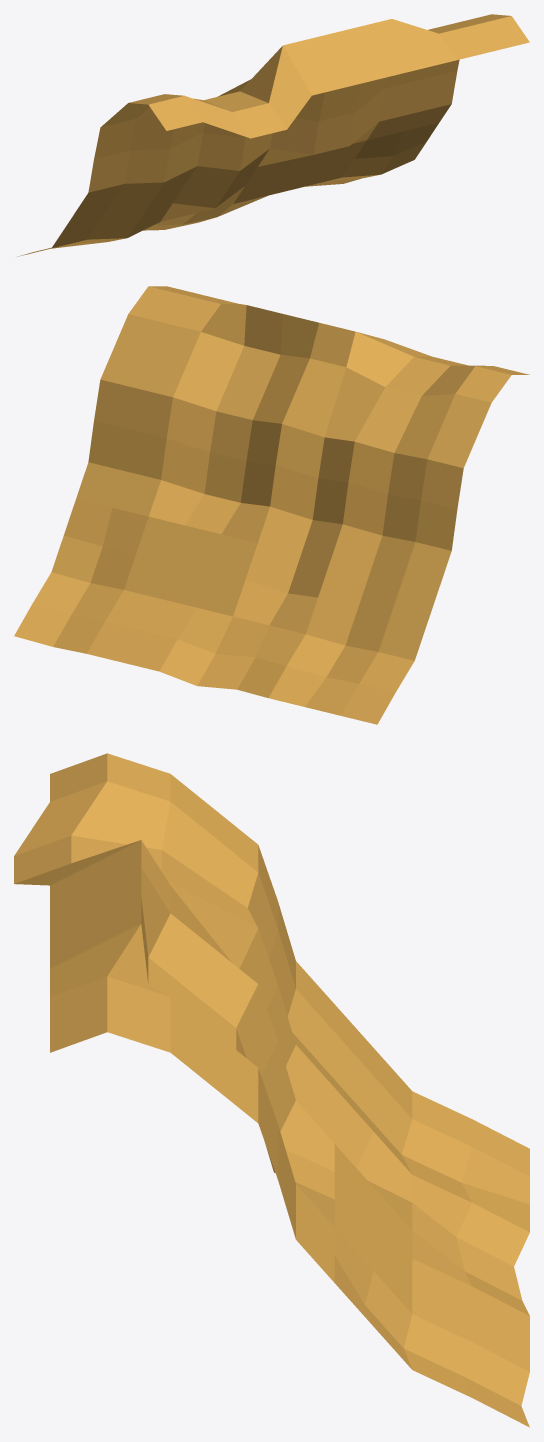
The model's file is heuvel_rand.fbx.
3 renders of one model, top to bottom at view 1: azimuth 30°, elevation 25°; view 2: azimuth 150°, elevation 25°; view 3: azimuth 270°, elevation 25°, orthographic. The views are drawn at different scales.
Parts seen in each view (by area): view 1: Plane_2; view 2: Plane_2; view 3: Plane_2.
Part boxes in pixels (x1,y1,x2,y2): Plane_2: (17, 14, 529, 256); Plane_2: (14, 286, 529, 724); Plane_2: (14, 753, 529, 1427).
Size of the model in its own units: 50.64 by 36.61 by 39.59.
